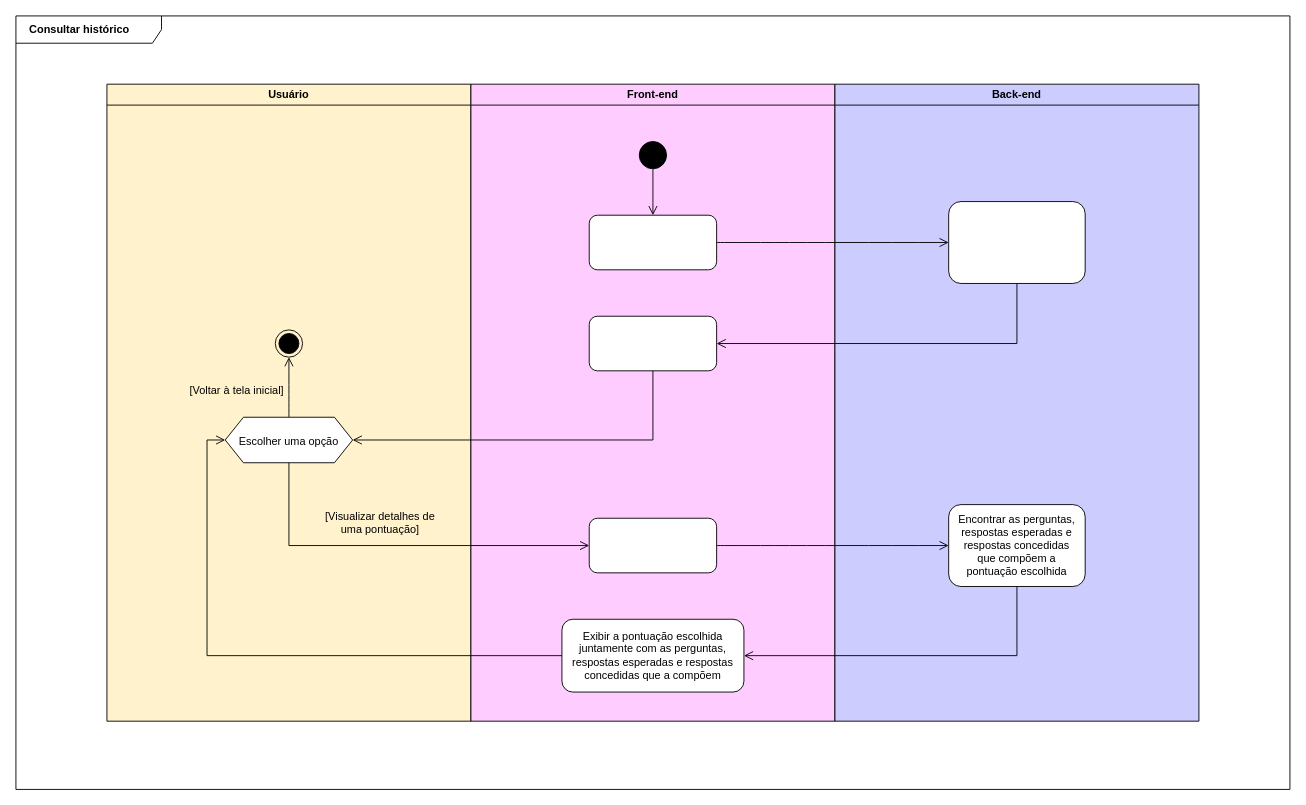
This 1306x805 diagram has some shape labels left out. The shapes that lost their labels are listed below. From the top down, each one's centre as x and y in pixels, then its label:
At pixel 652 242: "Exibir a tela de consulta de histórico".
At pixel 1016 242: "Encontrar todas as pontuações das equipes, ordenadas em ordem decrescente".
At pixel 652 343: "Exibir as pontuações encontradas".
At pixel 652 545: "Expandir a pontuação escolhida".
